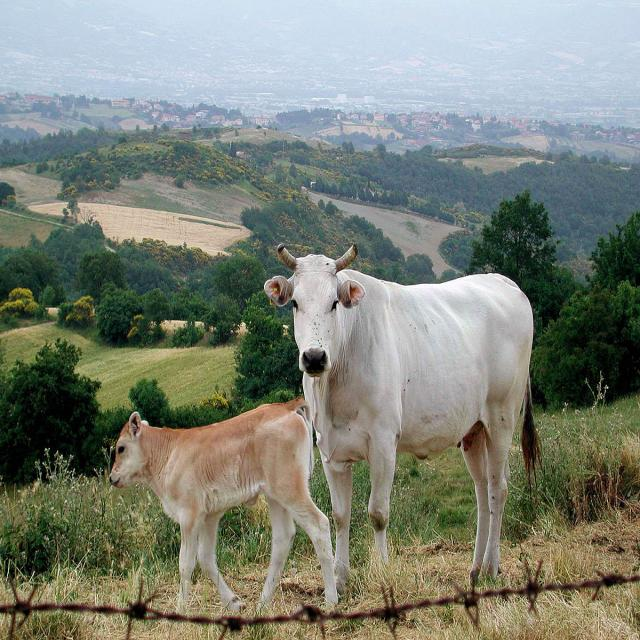cowFace: (262, 242, 367, 380), (98, 400, 156, 490)
